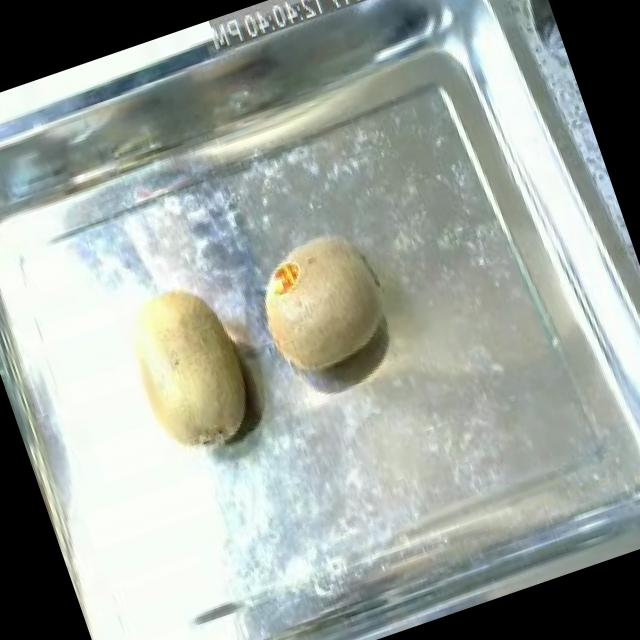Fruit: (100, 262, 275, 476), (233, 214, 407, 394)
